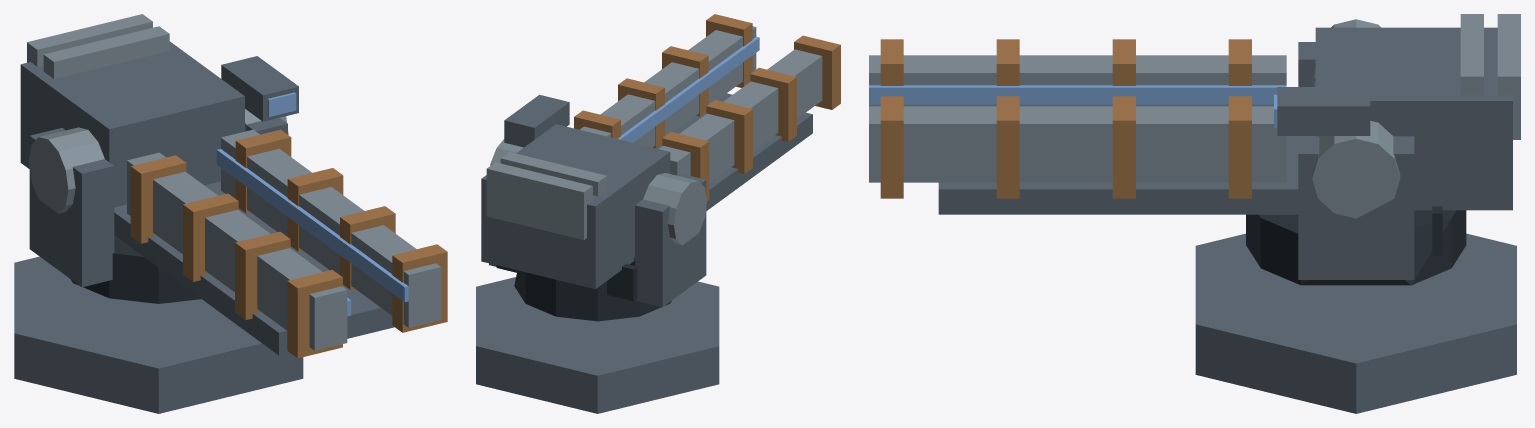
The model's file is railgun_t1_d0.meshopt.glb.
3 renders of one model, left to right at view 1: azimuth 30°, elevation 25°; view 2: azimuth 150°, elevation 25°; view 3: azimuth 270°, elevation 25°, orthographic. The views are drawn at different scales.
Visible parts, largest first — view 1: ROOT_ARMOR_GEOMETRY; view 2: ROOT_ARMOR_GEOMETRY; view 3: ROOT_ARMOR_GEOMETRY.
Boxes of the visible parts, left/top/right/bottom form: ROOT_ARMOR_GEOMETRY: left=14, top=14, right=447, bottom=413; ROOT_ARMOR_GEOMETRY: left=476, top=14, right=840, bottom=413; ROOT_ARMOR_GEOMETRY: left=869, top=14, right=1520, bottom=413.
Bounding box in the file's own units: 1.6 × 1.38 × 2.81.
